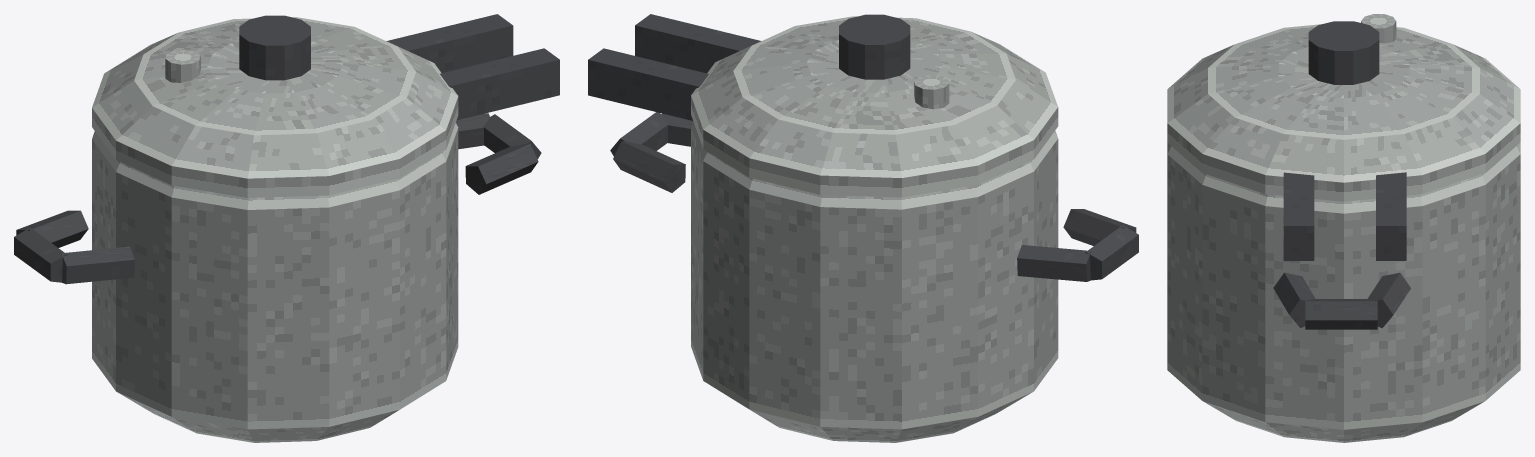
The model's file is pressure_cooker.glb.
The picture shows the model from 3 angles, left to right: view 1: azimuth 30°, elevation 25°; view 2: azimuth 150°, elevation 25°; view 3: azimuth 270°, elevation 25°; orthographic projection.
Visible parts, largest first — view 1: block_cooker body, block_domed cooking lid, block_interlocking lid handle (×2), block_side handle 2 (×2), block_lid knob or valve, block_side handle 1 (×2), block_side handle 0 (×2), block_steam weight; view 2: block_cooker body, block_domed cooking lid, block_interlocking lid handle (×2), block_side handle 0 (×2), block_lid knob or valve, block_side handle 1 (×2), block_side handle 2 (×2), block_steam weight; view 3: block_cooker body, block_domed cooking lid, block_interlocking lid handle (×2), block_lid knob or valve, block_side handle 1, block_side handle 0, block_side handle 2, block_steam weight.
Boxes of the visible parts, box(x1,y1,x2,y2) form: block_cooker body: box(92, 123, 458, 442); block_domed cooking lid: box(92, 17, 458, 197); block_interlocking lid handle (×2): box(386, 14, 559, 120); block_side handle 2 (×2): box(61, 143, 538, 284); block_lid knob or valve: box(239, 15, 310, 80); block_side handle 1 (×2): box(14, 114, 541, 282); block_side handle 0 (×2): box(16, 113, 489, 247); block_steam weight: box(165, 49, 200, 82); block_cooker body: box(691, 122, 1058, 442); block_domed cooking lid: box(691, 16, 1058, 197); block_interlocking lid handle (×2): box(588, 14, 761, 120); block_side handle 0 (×2): box(613, 141, 1091, 281); block_lid knob or valve: box(839, 14, 910, 79); block_side handle 1 (×2): box(610, 112, 1138, 280); block_side handle 2 (×2): box(662, 113, 1136, 245); block_steam weight: box(914, 74, 949, 109); block_cooker body: box(1167, 142, 1520, 442); block_domed cooking lid: box(1167, 24, 1520, 201); block_interlocking lid handle (×2): box(1283, 172, 1406, 260); block_lid knob or valve: box(1308, 21, 1379, 84); block_side handle 1: box(1305, 299, 1377, 329); block_side handle 0: box(1367, 272, 1410, 328); block_side handle 2: box(1273, 272, 1315, 328); block_steam weight: box(1361, 14, 1396, 43).
Size of the model in its own units: 0.3719 by 0.2525 by 0.2316.
1 material, 1 textured.
